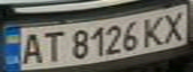1: (87, 25, 109, 57)
2: (103, 20, 127, 55)
6: (121, 18, 145, 52)
8: (66, 26, 90, 60)
A: (18, 29, 45, 65)
K: (136, 12, 172, 47)
T: (36, 28, 66, 63)
X: (157, 8, 190, 43)
